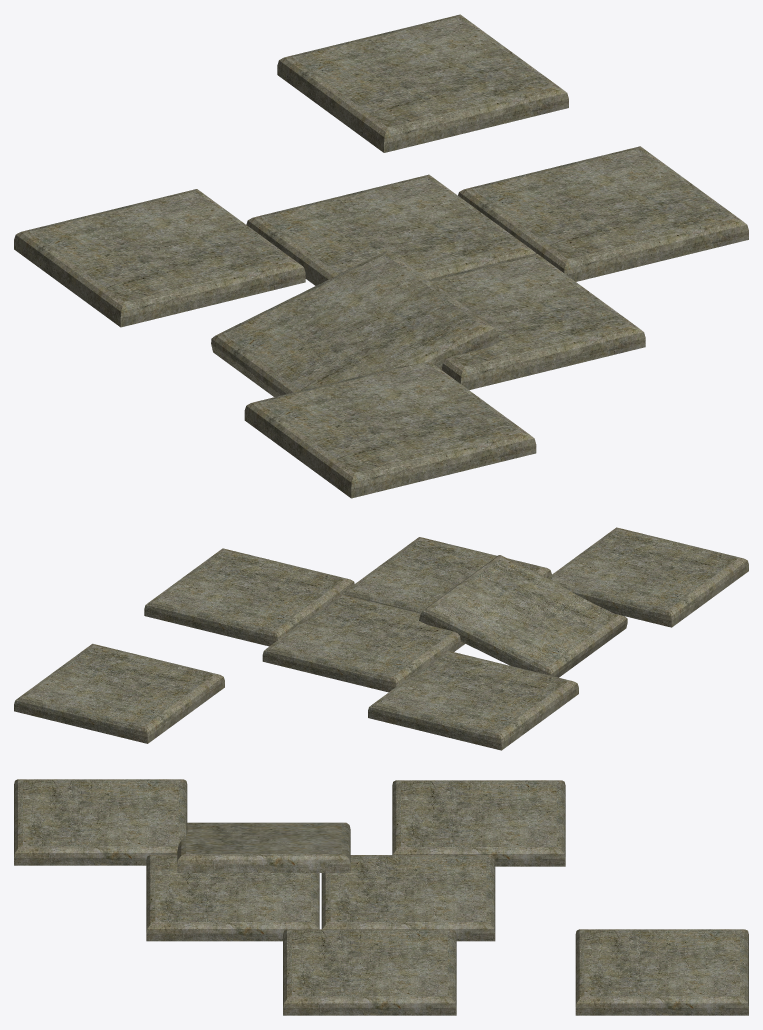
Rendered from StoneTiles4.FBX.
3 views of the same model, one above another, from view 1: azimuth 30°, elevation 25°; view 2: azimuth 150°, elevation 25°; view 3: azimuth 270°, elevation 25° (orthographic). The views are drawn at different scales.
Visible parts, largest first — view 1: Box012, Box016; view 2: Box012, Box016; view 3: Box012, Box016.
Boxes of the visible parts, x1,y1,x2,y2 form: Box012: [14, 146, 748, 498]; Box016: [277, 14, 568, 152]; Box012: [144, 527, 748, 750]; Box016: [14, 643, 224, 743]; Box012: [14, 779, 565, 1015]; Box016: [575, 929, 748, 1015].
Bounding box in the file's own units: 41.63 × 4.35 × 57.91.
